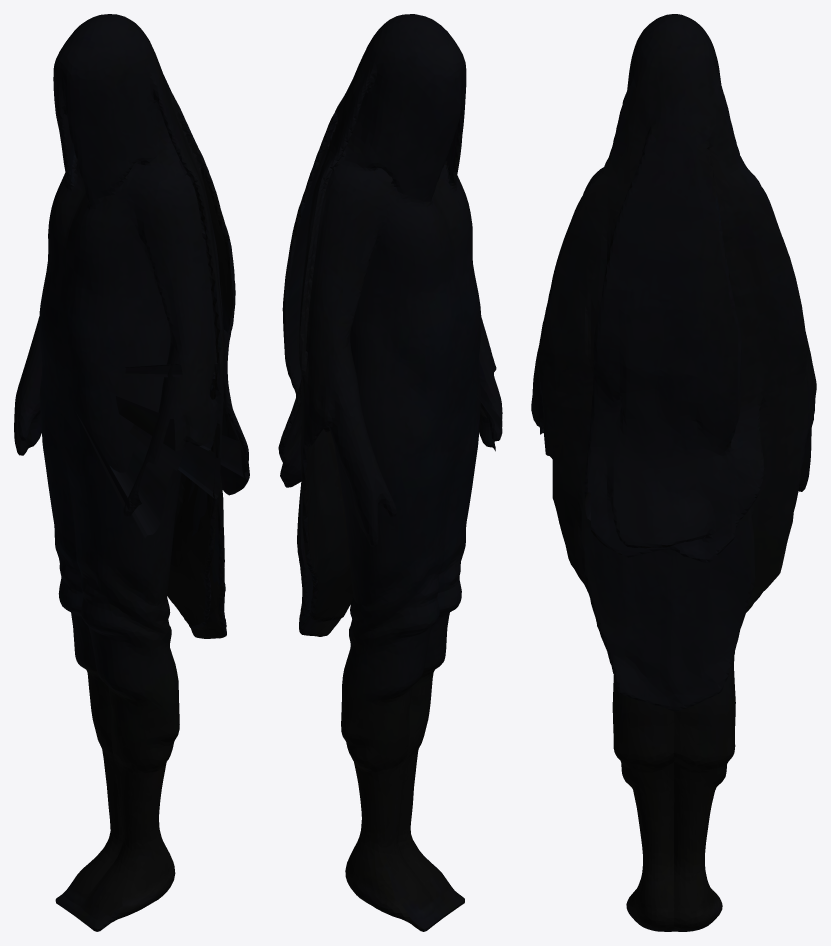
Rendered from garak_doll6.glb.
3 views of the same model, side by side, from view 1: azimuth 30°, elevation 25°; view 2: azimuth 150°, elevation 25°; view 3: azimuth 270°, elevation 25° (orthographic).
Parts seen in each view (by area): view 1: doll6.obj; view 2: doll6.obj; view 3: doll6.obj.
Part boxes in pixels (left/top/right/bottom): doll6.obj: left=14, top=14, right=249, bottom=931; doll6.obj: left=278, top=14, right=502, bottom=931; doll6.obj: left=531, top=14, right=816, bottom=931.
Size of the model in its own units: 0.3978 by 1.97 by 0.5629.
1 material, 1 textured.
